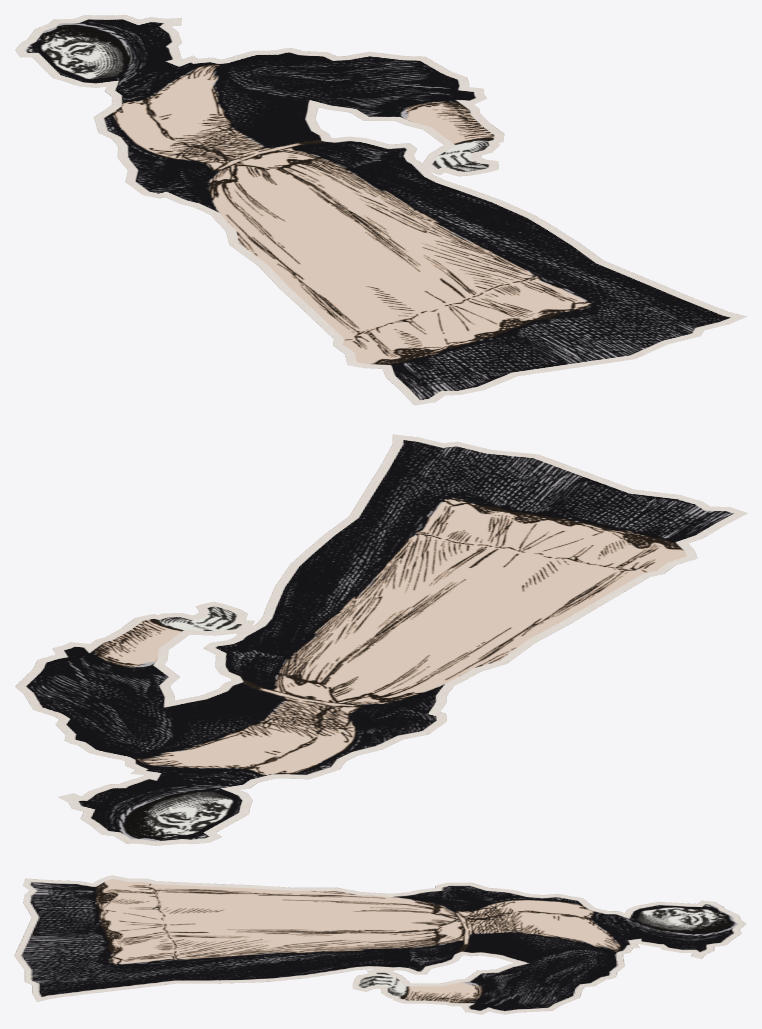
The model's file is laura.fbx.
3 renders of one model, top to bottom at view 1: azimuth 30°, elevation 25°; view 2: azimuth 150°, elevation 25°; view 3: azimuth 270°, elevation 25°, orthographic. The views are drawn at different scales.
Visible parts, largest first — view 1: BézierCurve; view 2: BézierCurve; view 3: BézierCurve.
Part boxes in pixels (x1=…): BézierCurve: x1=15, y1=15, x2=746, y2=405; BézierCurve: x1=15, y1=434, x2=747, y2=845; BézierCurve: x1=14, y1=875, x2=746, y2=1014.
Bounding box in the file's own units: 225 × 8.14e-05 × 500.
1 material, 1 textured.
